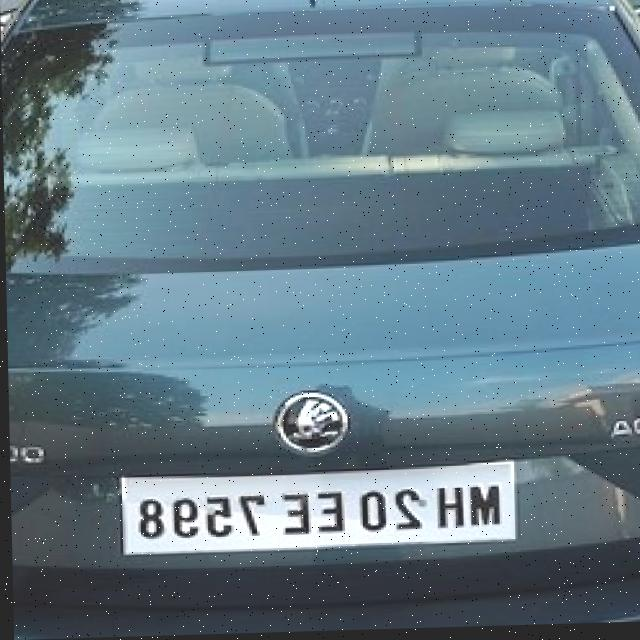plate: (114, 465, 516, 555)
